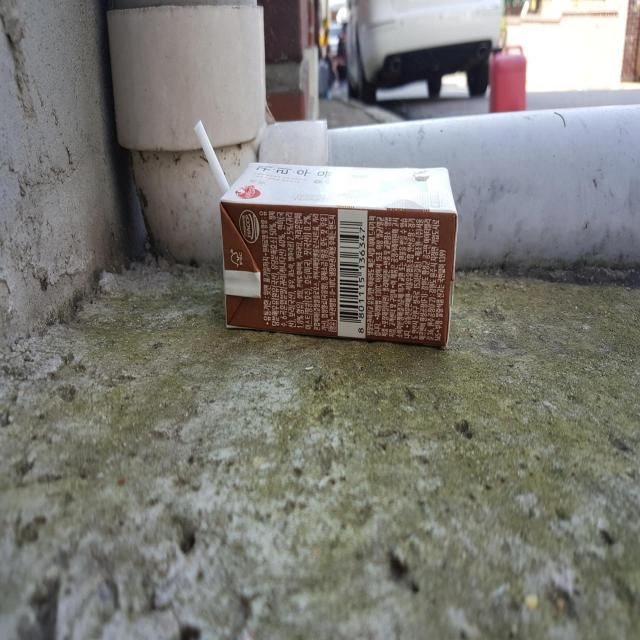paperpack: (221, 162, 458, 346)
